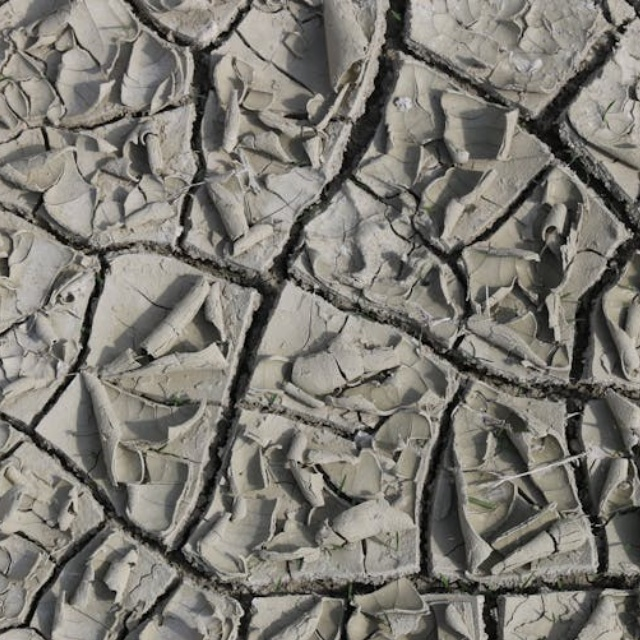细微裂纹: (0, 136, 640, 640), (66, 257, 640, 640), (108, 468, 640, 640), (344, 283, 501, 631), (241, 515, 640, 609), (442, 451, 640, 640)
网状裂隙: (0, 89, 631, 640)
